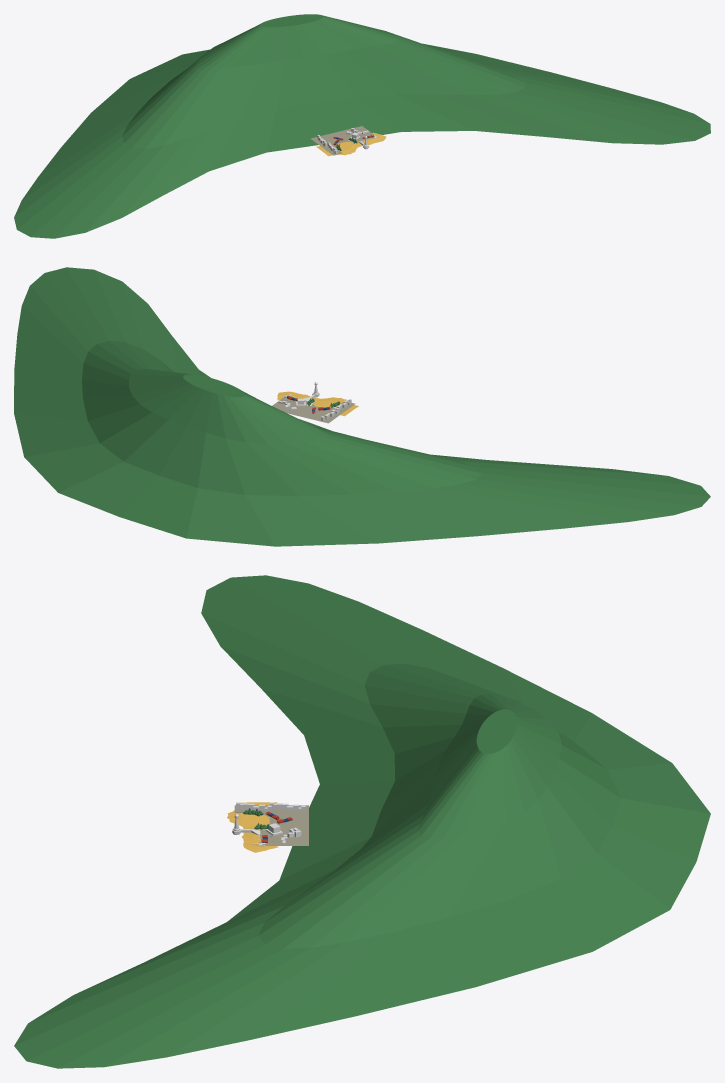
File: BlipBeach-Env.fbx
The picture shows the model from 3 angles, top to bottom: view 1: azimuth 30°, elevation 25°; view 2: azimuth 150°, elevation 25°; view 3: azimuth 270°, elevation 25°; orthographic projection. The views are drawn at different scales.
Visible parts, largest first — view 1: Cylinder.001, Plane.002, Plane; view 2: Cylinder.001, Plane.002, Plane; view 3: Cylinder.001, Plane.002, Plane.
Part boxes in pixels (left/top/right/bottom): Cylinder.001: left=14, top=14, right=710, bottom=238; Plane.002: left=310, top=126, right=374, bottom=155; Plane: left=316, top=132, right=386, bottom=156; Cylinder.001: left=14, top=267, right=710, bottom=546; Plane.002: left=272, top=397, right=355, bottom=423; Plane: left=277, top=391, right=358, bottom=416; Cylinder.001: left=14, top=575, right=710, bottom=1068; Plane.002: left=234, top=805, right=308, bottom=845; Plane: left=227, top=802, right=278, bottom=852.
Bounding box in the file's own units: 7687 × 840 × 4590.
